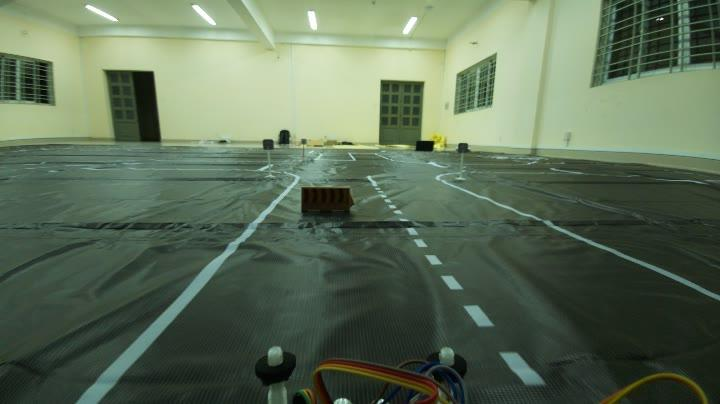roadblock: (298, 182, 356, 220)
